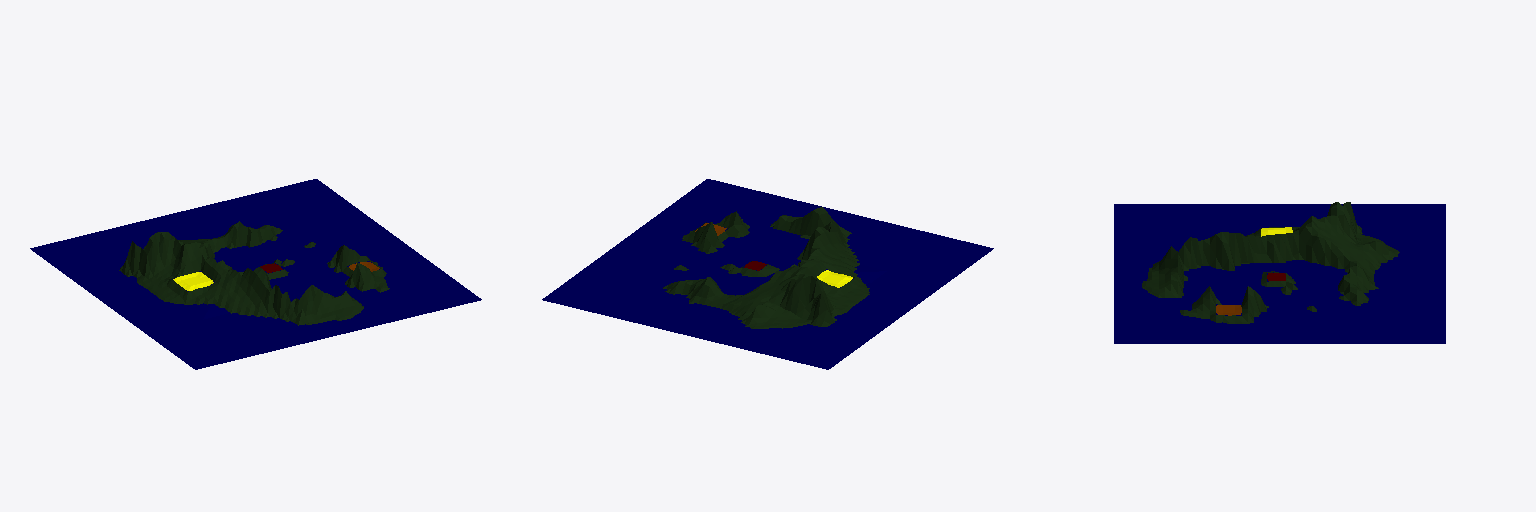
The model's file is island_scaled1.obj.
3 views of the same model, side by side, from view 1: azimuth 30°, elevation 25°; view 2: azimuth 150°, elevation 25°; view 3: azimuth 270°, elevation 25° (orthographic).
Visible parts, largest first — view 1: IslandField WaterMesh, TerrainMesh IslandField; view 2: IslandField WaterMesh, TerrainMesh IslandField; view 3: IslandField WaterMesh, TerrainMesh IslandField.
Part boxes in pixels (x1,y1,x2,y2): IslandField WaterMesh: (30,179,481,369); TerrainMesh IslandField: (119,221,389,325); IslandField WaterMesh: (542,179,993,369); TerrainMesh IslandField: (663,207,869,328); IslandField WaterMesh: (1114,204,1445,343); TerrainMesh IslandField: (1142,202,1399,323).
Bounding box in the file's own units: 200 × 25.86 × 200.